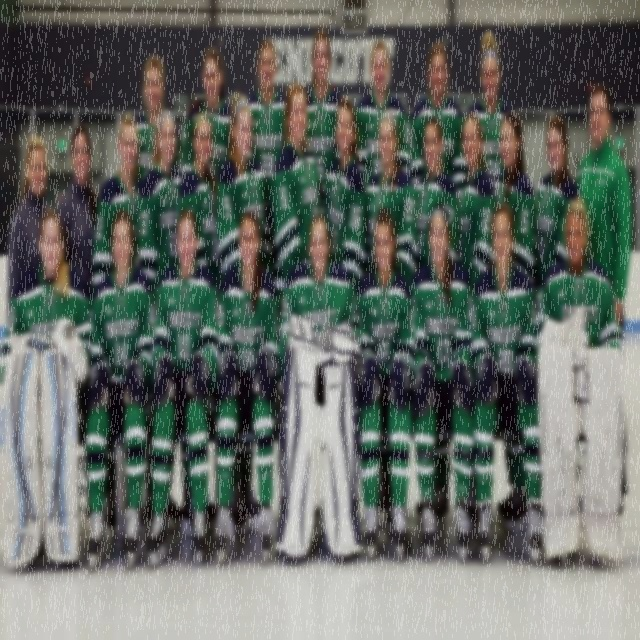pessoa: (533, 188, 631, 572), (0, 203, 95, 576), (276, 210, 364, 560), (469, 200, 546, 567), (81, 203, 156, 576), (144, 204, 220, 568), (575, 79, 633, 519), (410, 202, 478, 567), (214, 204, 282, 566), (354, 203, 419, 564), (491, 109, 536, 538), (56, 122, 100, 519), (270, 80, 328, 346), (6, 128, 62, 326), (214, 90, 266, 296), (362, 107, 420, 290), (90, 110, 144, 300), (408, 39, 465, 205), (353, 36, 412, 194), (174, 108, 224, 294), (322, 91, 368, 287), (464, 27, 514, 200), (534, 110, 582, 290), (136, 106, 183, 287), (454, 110, 498, 294), (182, 43, 234, 187), (132, 49, 182, 196), (414, 112, 461, 268), (246, 34, 288, 208), (303, 26, 343, 198)
